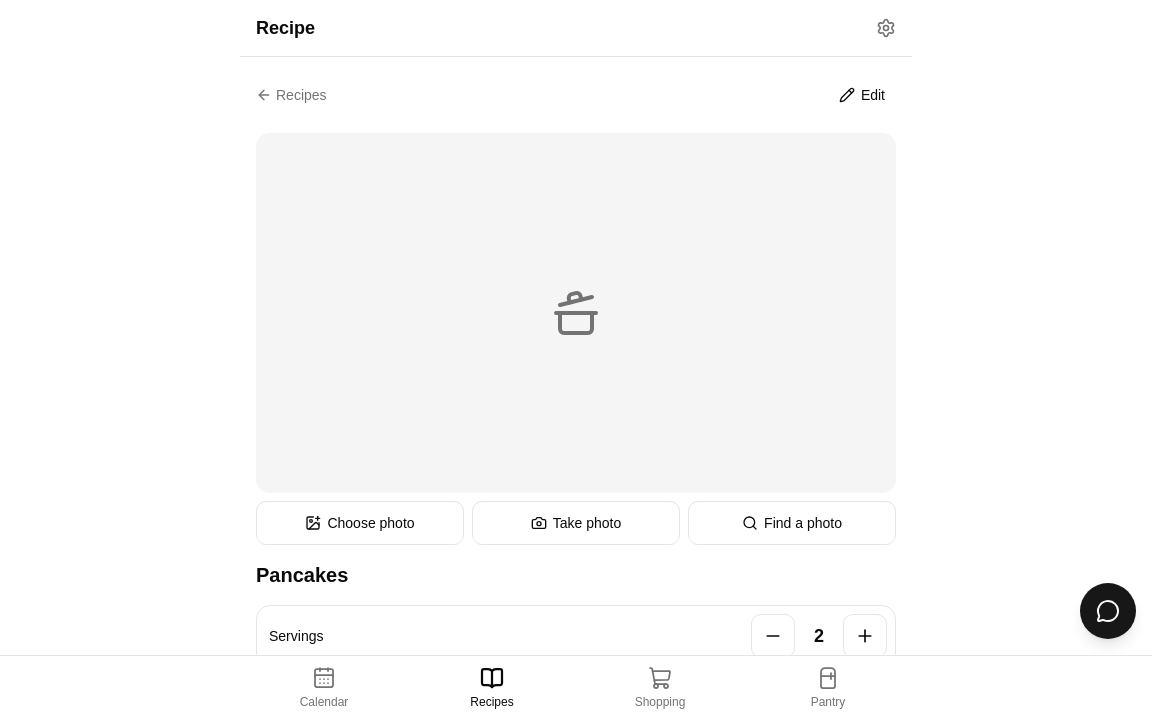
Scenario: photo search picker › shows search errors
The image size is (1152, 720).
Step 1. Click the button "Find a photo" → point(792, 523), box [688,501,896,545]
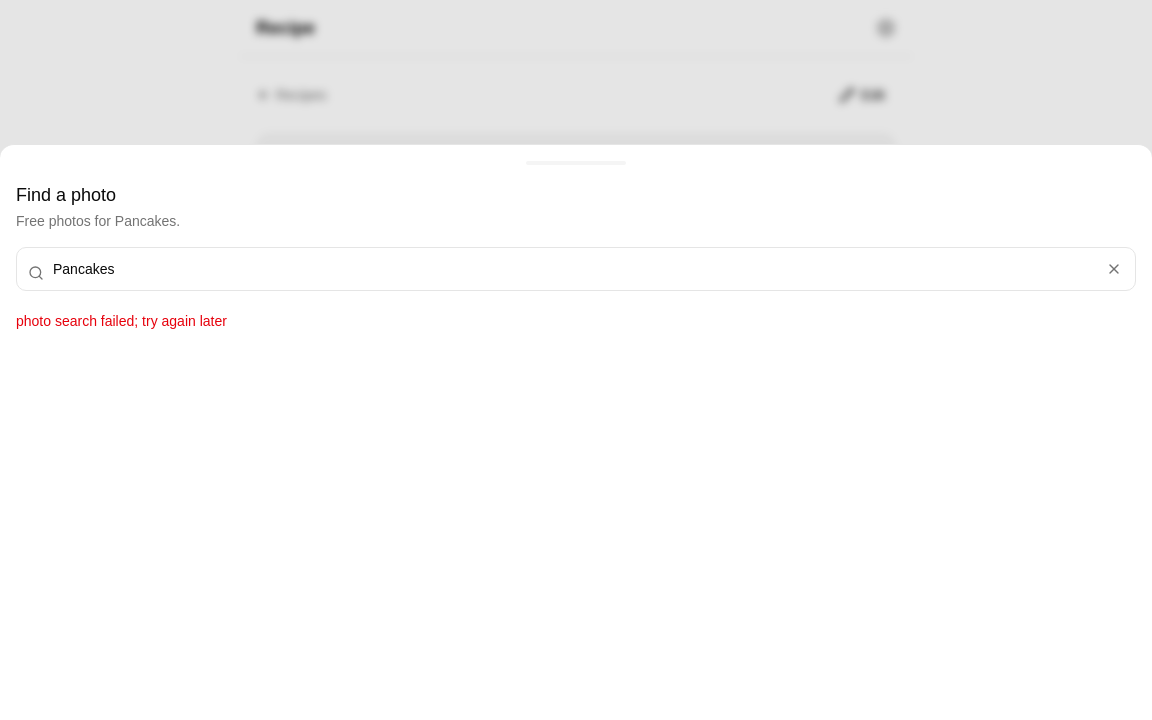
Check: the message reads "photo search failed; try again later", box [16,313,227,329]
